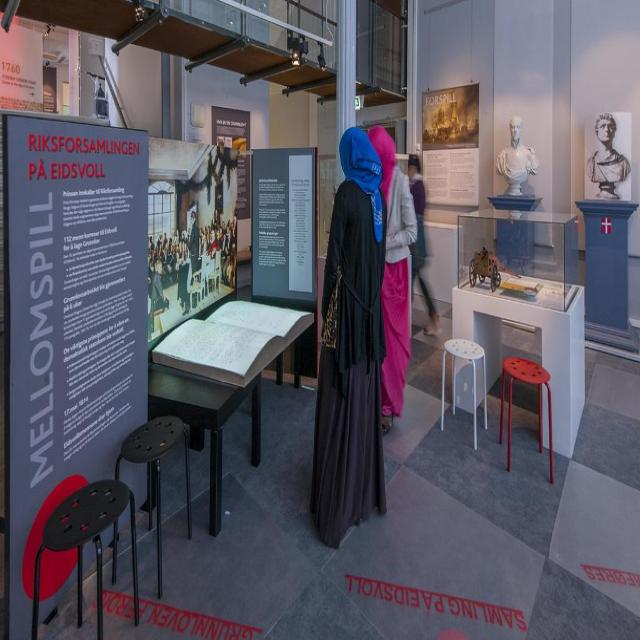chair: (23, 475, 139, 640), (115, 413, 191, 602), (499, 354, 553, 482), (440, 337, 488, 448)
desk: (452, 277, 578, 434)
person: (309, 126, 390, 547), (368, 125, 418, 426), (405, 152, 441, 337)
